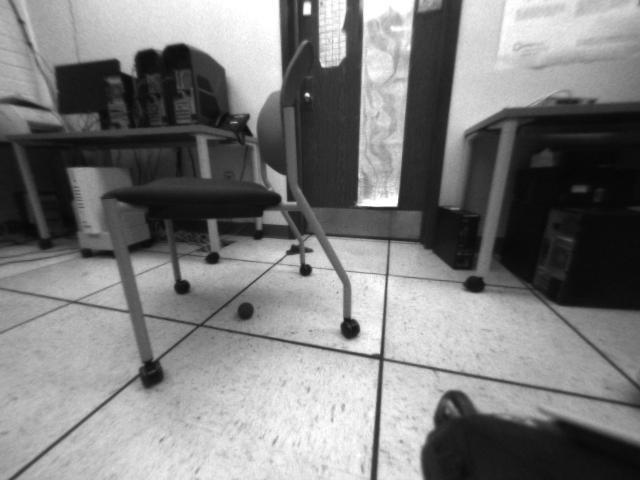dogtoy: (232, 295, 261, 326)
